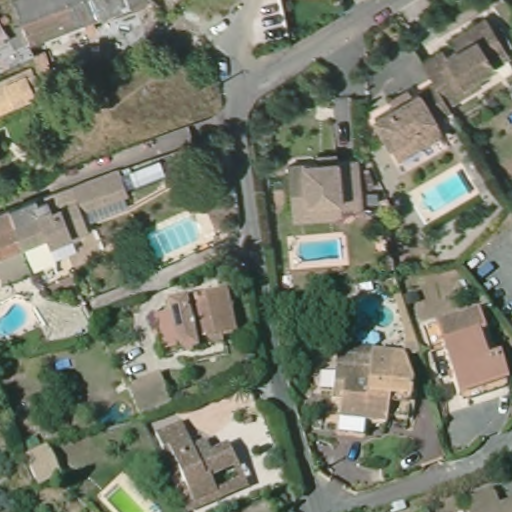pool: (412, 171, 476, 215), (149, 222, 201, 256), (293, 238, 346, 264), (102, 480, 144, 512), (1, 301, 30, 341), (367, 303, 400, 332)
